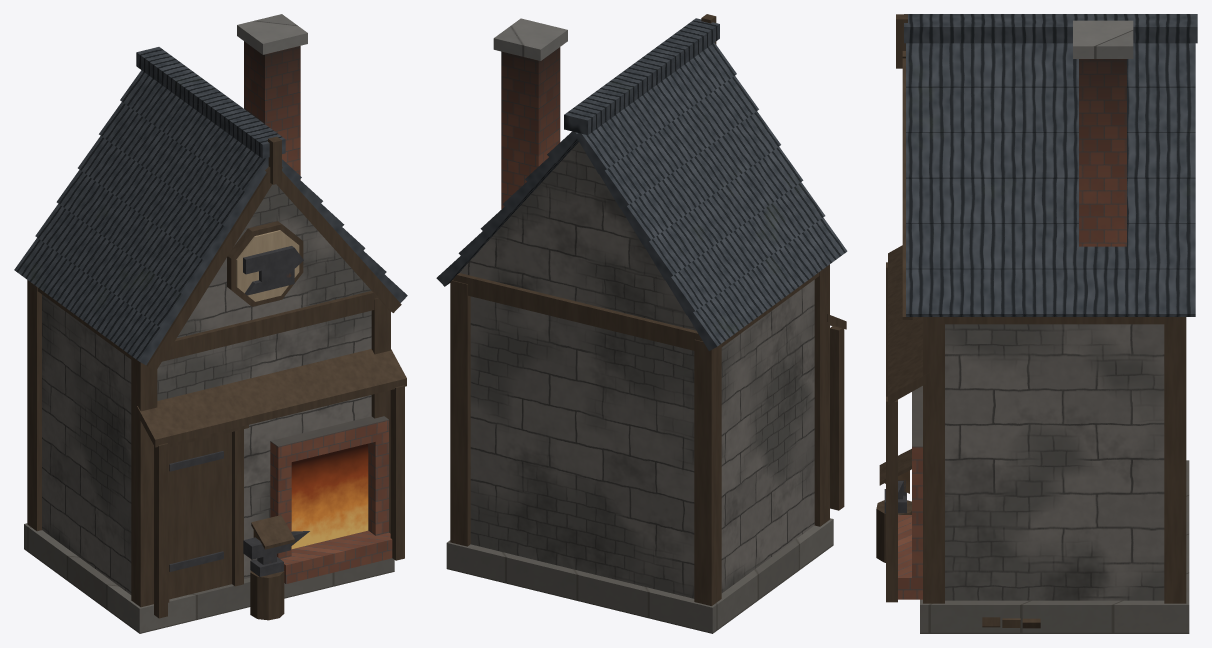
The model's file is 상점_강화소.fbx.
The picture shows the model from 3 angles, left to right: view 1: azimuth 30°, elevation 25°; view 2: azimuth 150°, elevation 25°; view 3: azimuth 270°, elevation 25°; orthographic projection. The views are drawn at different scales.
Parts seen in each view (by area): view 1: 상점_강화소; view 2: 상점_강화소; view 3: 상점_강화소.
Part boxes in pixels (<box>): 상점_강화소: <box>14,14,407,633</box>; 상점_강화소: <box>436,14,847,633</box>; 상점_강화소: <box>876,14,1197,633</box>.
Size of the model in its own units: 898 by 1580 by 798.
Materials: 9 (9 with a texture image).
